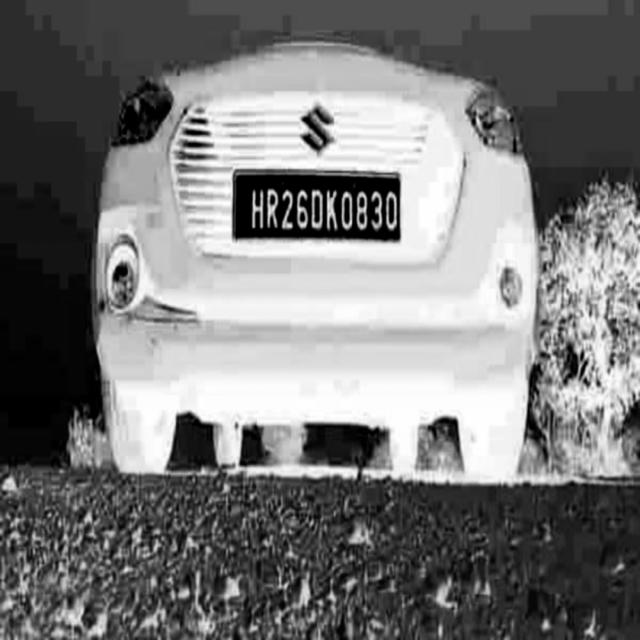0: (384, 188, 398, 235), (340, 188, 354, 232)
2: (281, 186, 295, 234)
3: (370, 187, 382, 234)
6: (296, 186, 310, 232)
8: (355, 188, 369, 233)
D: (310, 185, 325, 233)
H: (252, 187, 265, 234)
IND: (237, 187, 250, 233)
Indian_registered: (232, 171, 400, 241)
K: (324, 182, 341, 241)
R: (267, 185, 281, 233)
